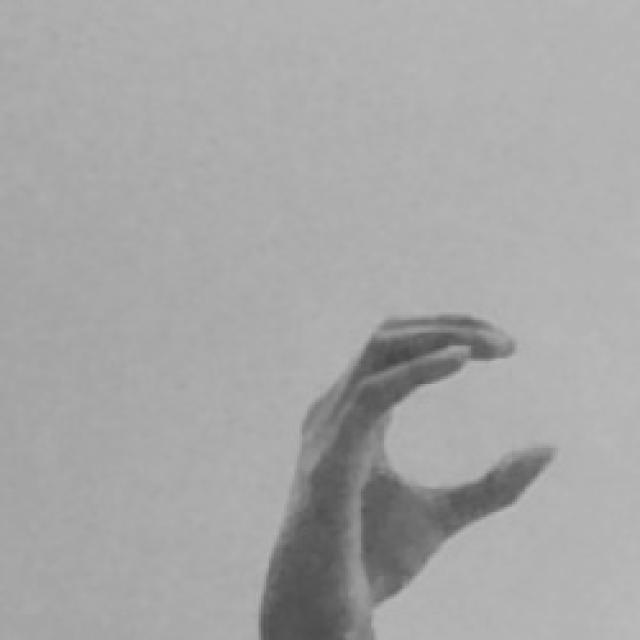C: (259, 311, 558, 640)
